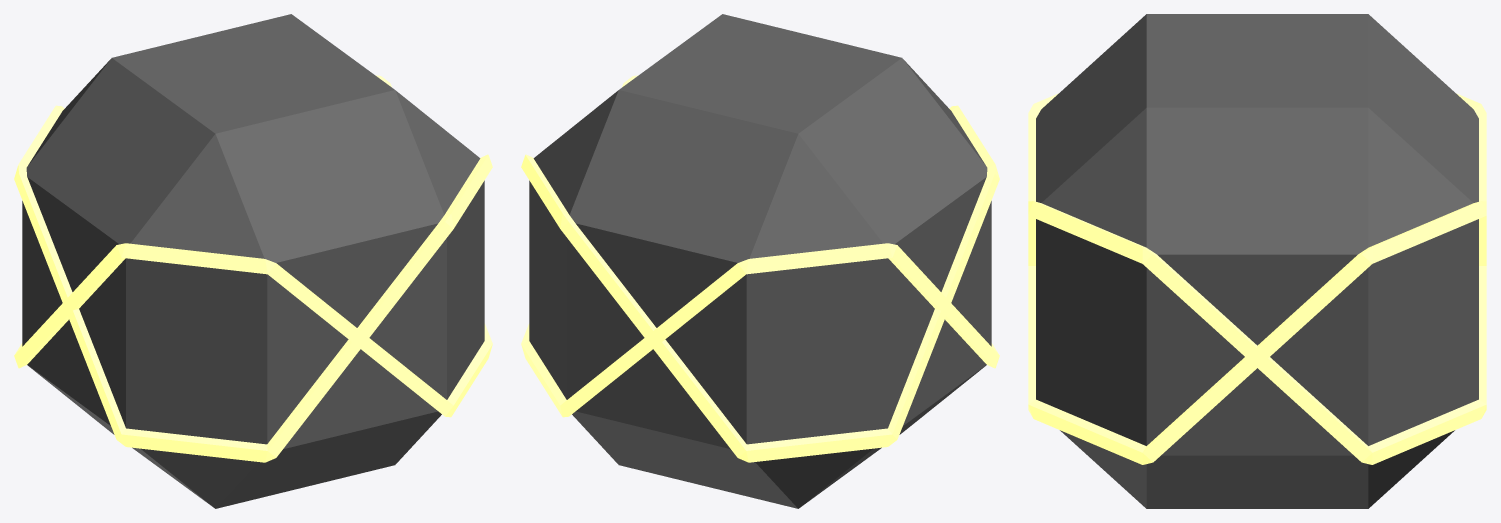
Rendered from pillarhub.fbx.
3 views of the same model, side by side, from view 1: azimuth 30°, elevation 25°; view 2: azimuth 150°, elevation 25°; view 3: azimuth 270°, elevation 25° (orthographic). The views are drawn at different scales.
Visible parts, largest first — view 1: Cube.023; view 2: Cube.023; view 3: Cube.023.
Boxes of the visible parts, left/top/right/bottom form: Cube.023: left=14, top=14, right=492, bottom=508; Cube.023: left=521, top=14, right=999, bottom=508; Cube.023: left=1028, top=14, right=1486, bottom=508.
Size of the model in its own units: 1.04 by 1 by 1.04.
